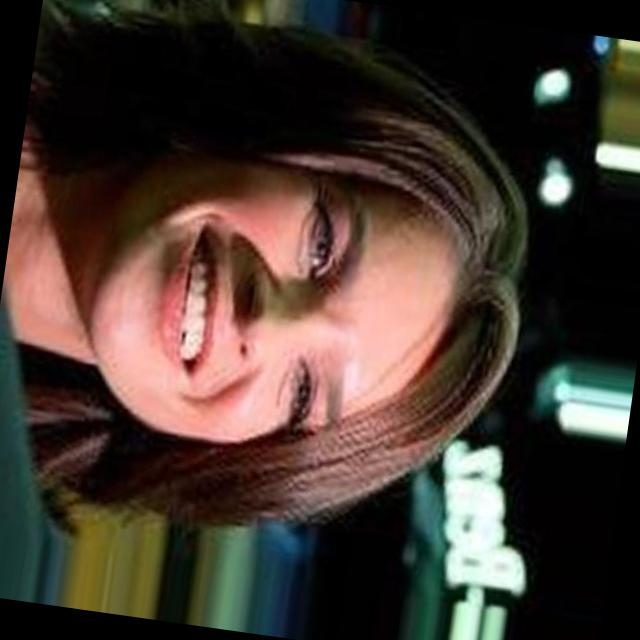bareface: (97, 67, 526, 484)
